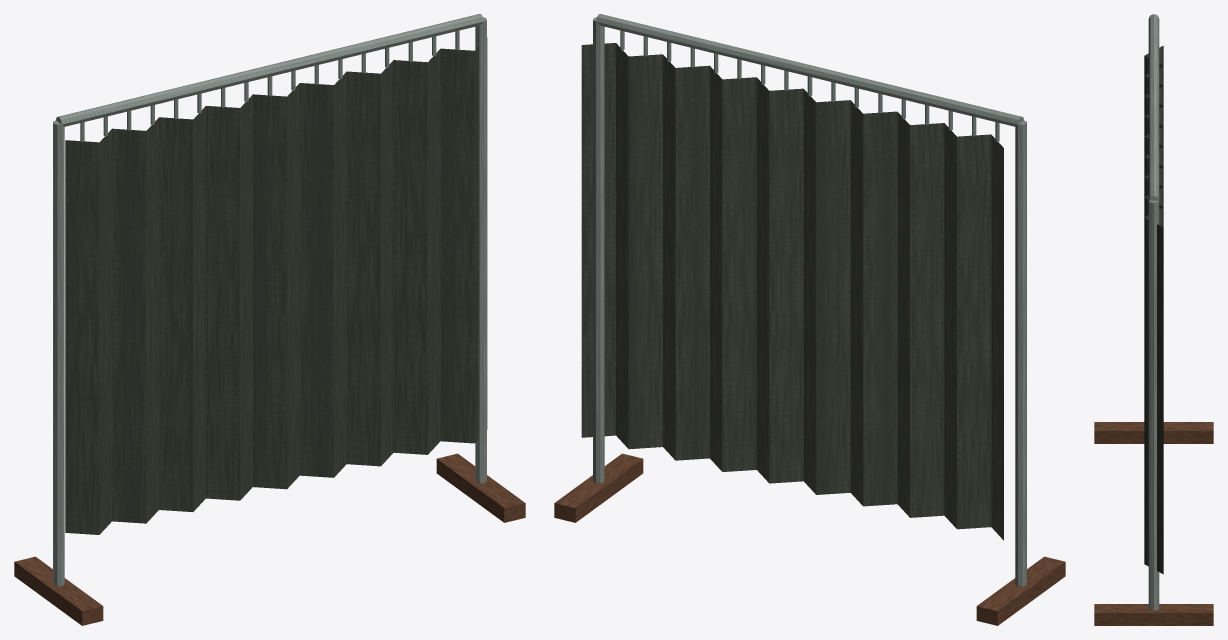
Rendered from HospitalCurtain.obj.
3 renders of one model, left to right at view 1: azimuth 30°, elevation 25°; view 2: azimuth 150°, elevation 25°; view 3: azimuth 270°, elevation 25°, orthographic. The views are drawn at different scales.
Visible parts, largest first — view 1: HospitalCurtain; view 2: HospitalCurtain; view 3: HospitalCurtain.
Part boxes in pixels (x1,y1,x2,y2): HospitalCurtain: (14, 14, 525, 625); HospitalCurtain: (554, 14, 1065, 625); HospitalCurtain: (1094, 14, 1213, 625).
Size of the model in its own units: 1.89 by 1.97 by 0.5.
3 materials, 3 textured.
